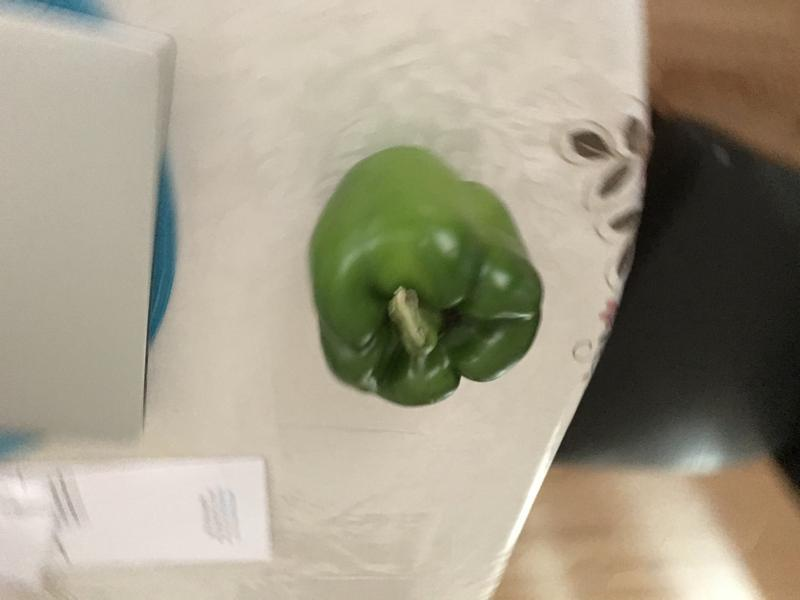green_pepper: (303, 133, 555, 422)
